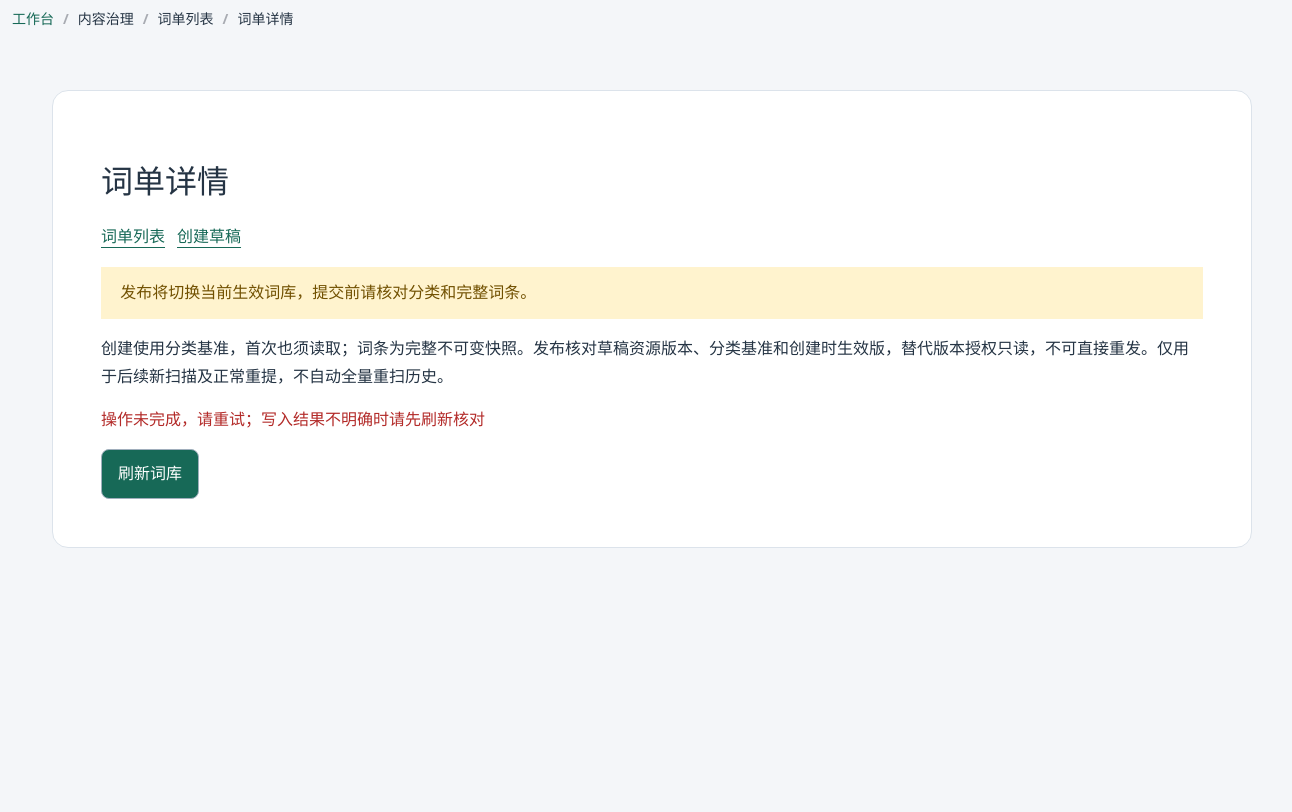
it: T017 REQ-015/018/019 词库页面 › 详情直达读取完整快照，响应标识不匹配时不展示或允许发布
Step 1. Click the button "刷新词库" → (150, 474), box [101,449,199,499]
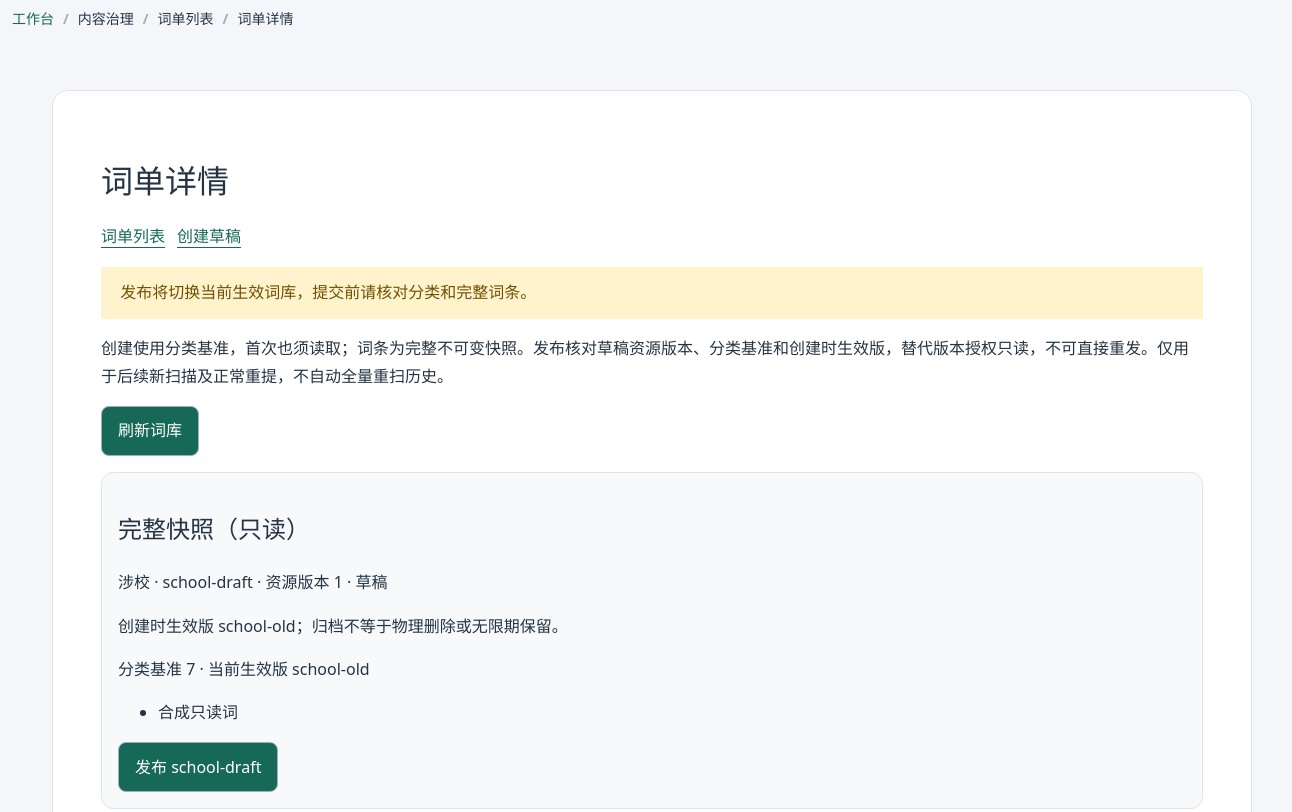
Now the text "合成只读词" is shown, box [158,701,238,723]
